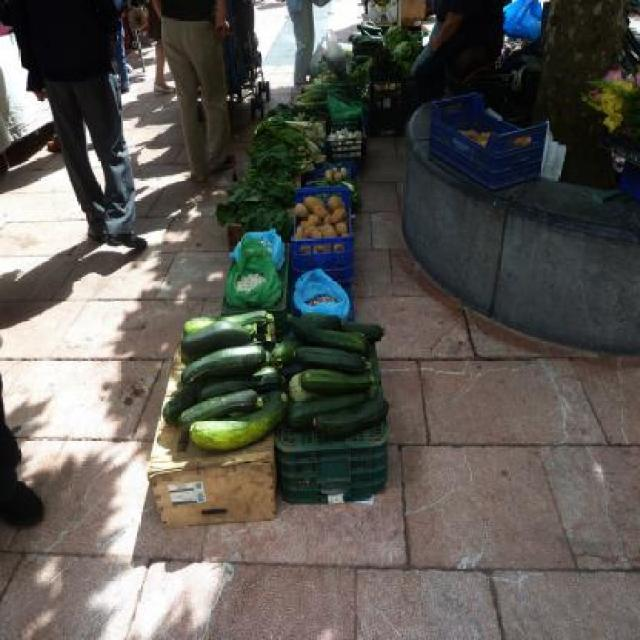Zucchini: (150, 309, 390, 474)
